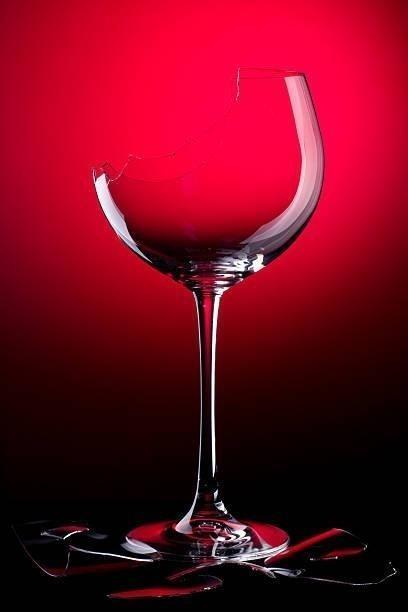glass-wine: (92, 62, 326, 559)
